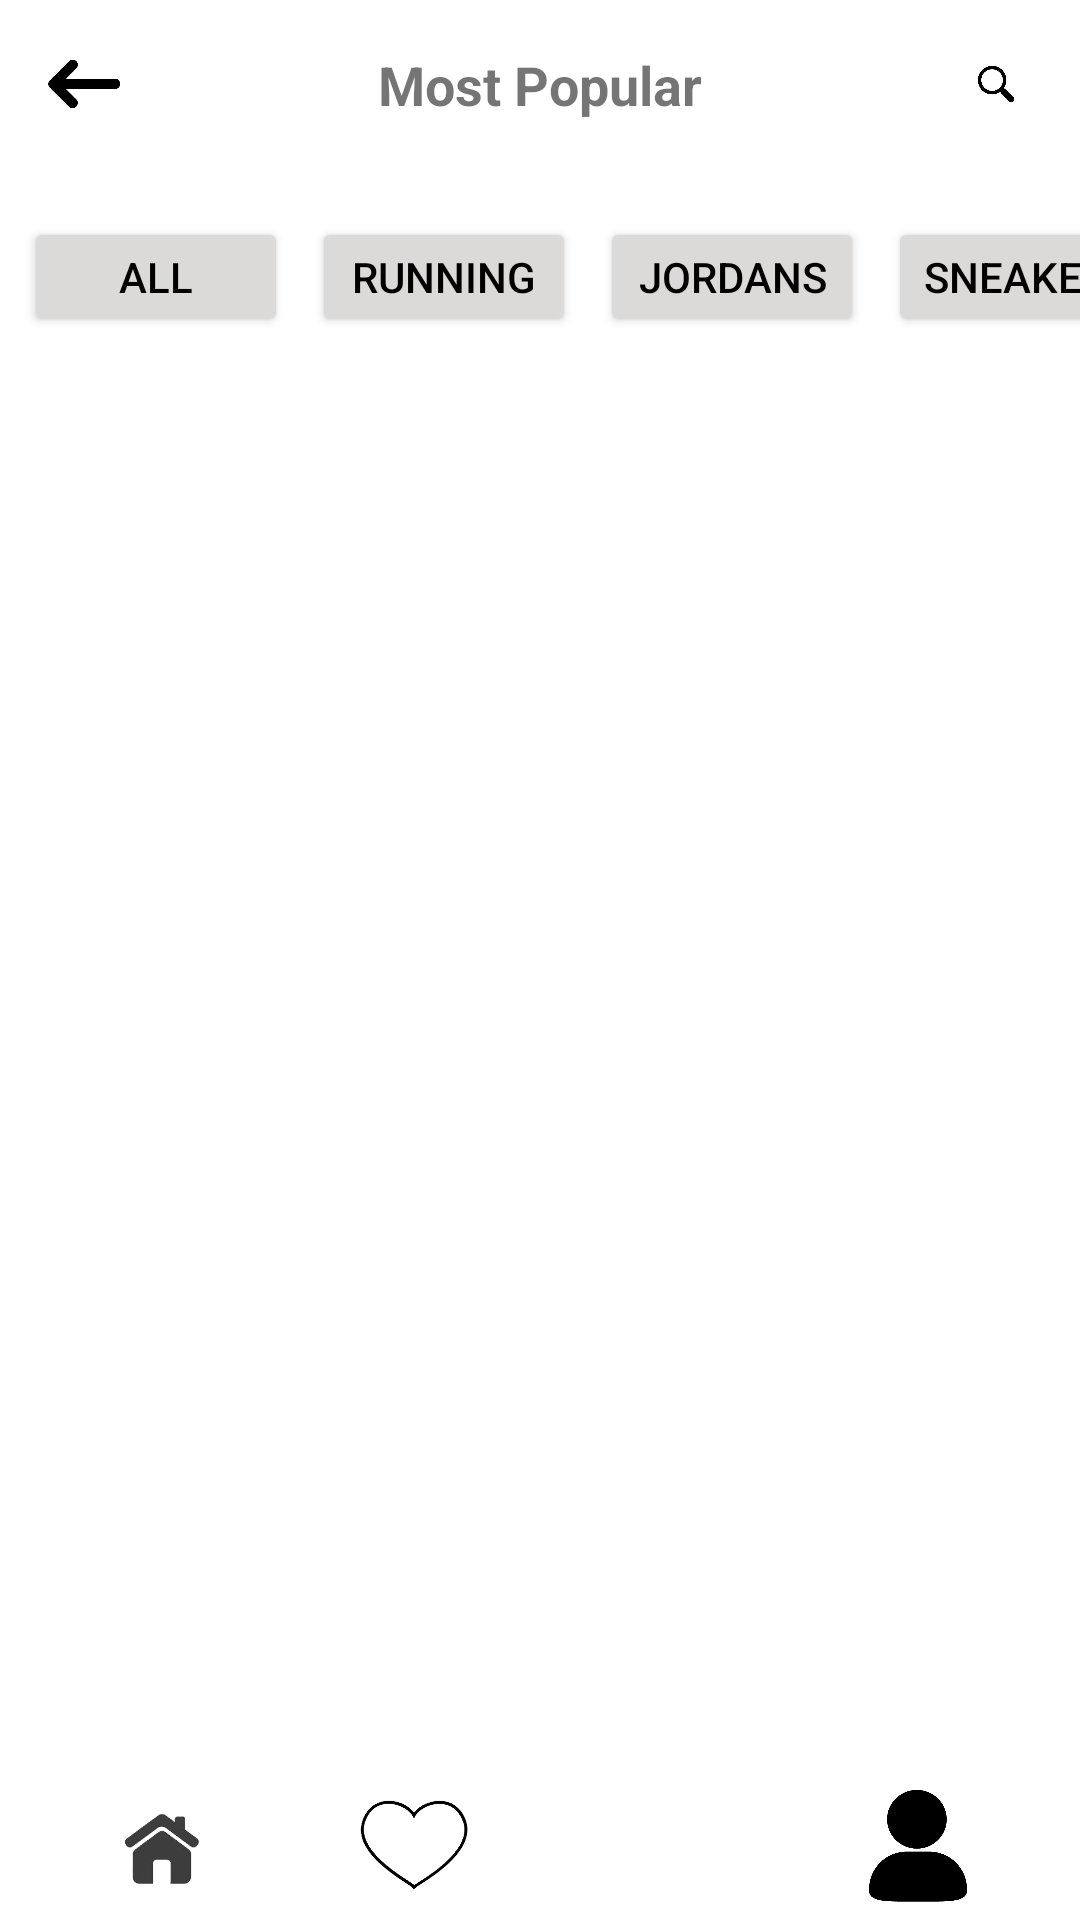

Screen size 1080w x 1920h. Icon name, then its box in pixels as (x1,y1,x2,y2):
muiten: (48,60,120,108)
Trang chủ: (125,1814,199,1884)
Tài khoản: (869,1790,967,1902)
Yêu thích: (360,1801,468,1889)
